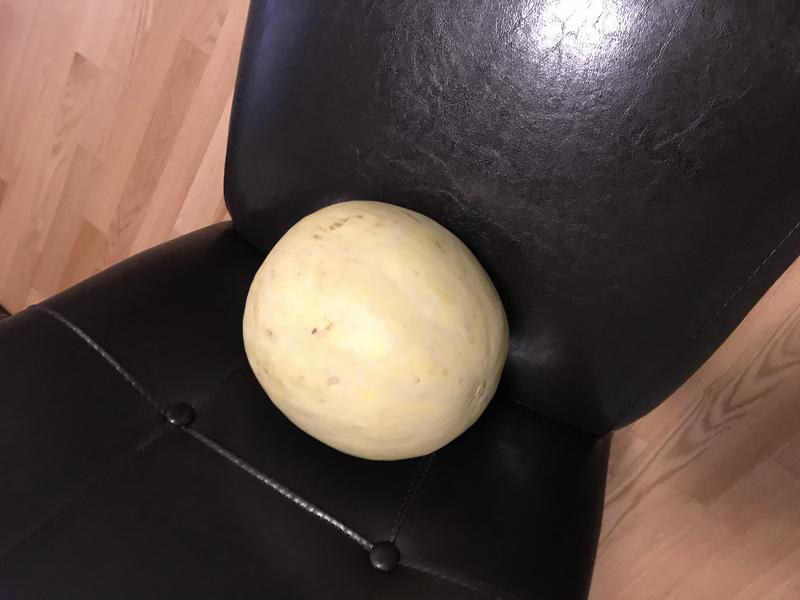honeydew: (233, 192, 517, 481)
